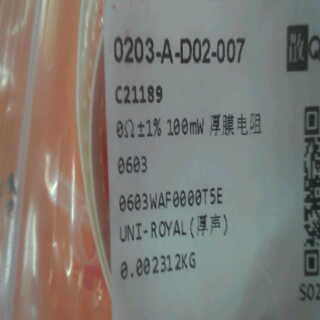0R: (108, 114, 166, 180)
